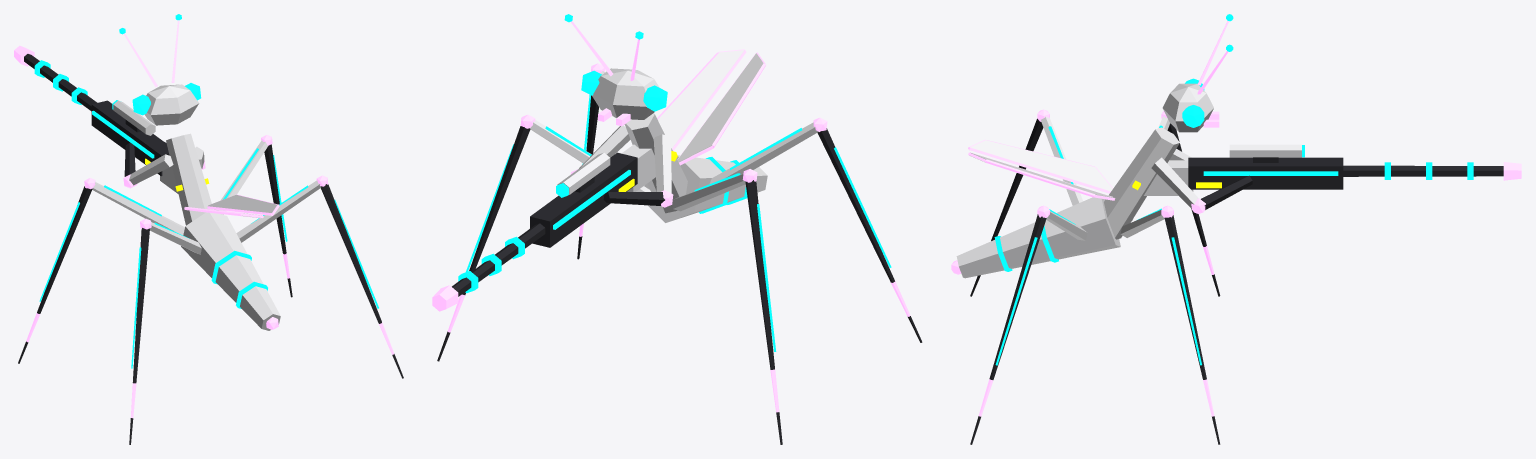
File: SniperMantis.fbx
3 renders of one model, left to right at view 1: azimuth 30°, elevation 25°; view 2: azimuth 150°, elevation 25°; view 3: azimuth 270°, elevation 25°, orthographic. The views are drawn at different scales.
Visible parts, largest first — view 1: Mantis_Abdomen, Mantis_Thorax, Mantis_RifleBody, Mantis_Head, Mantis_LegBackL_Lower, Mantis_LegBackR_Lower, Mantis_LegFrontR_Upper, Mantis_LegBackL_Upper, Mantis_LegFrontR_Lower, Mantis_WingL, Mantis_LegFrontL_Lower, Mantis_Barrel (+4 smaller); view 2: Mantis_RifleBody, Mantis_WingL, Mantis_Head, Mantis_Abdomen, Mantis_WingR, Mantis_Thorax, Mantis_LegFrontR_Lower, Mantis_LegFrontL_Lower, Mantis_LegBackR_Lower, Mantis_Barrel, Mantis_LegBackR_Upper, Mantis_LegFrontR_Upper (+10 smaller); view 3: Mantis_Abdomen, Mantis_RifleBody, Mantis_Thorax, Mantis_WingR, Mantis_Barrel, Mantis_Head, Mantis_LegBackL_Lower, Mantis_LegFrontL_Lower, Mantis_Scope, Mantis_LegBackR_Lower, Mantis_ArmL, Mantis_RifleStock (+3 smaller).
Part boxes in pixels (x1,y1,x2,y2): Mantis_Abdomen: [181, 212, 280, 330]; Mantis_Thorax: [166, 133, 212, 225]; Mantis_RifleBody: [91, 100, 169, 176]; Mantis_Head: [144, 84, 199, 125]; Mantis_LegBackL_Lower: [321, 184, 403, 378]; Mantis_LegBackR_Lower: [129, 228, 149, 444]; Mantis_LegFrontR_Upper: [92, 182, 184, 235]; Mantis_LegBackL_Upper: [236, 180, 320, 242]; Mantis_LegFrontR_Lower: [18, 186, 92, 363]; Mantis_WingL: [208, 195, 277, 212]; Mantis_LegFrontL_Lower: [264, 144, 292, 297]; Mantis_Barrel: [24, 54, 97, 111]; Mantis_RifleBody: [530, 152, 637, 247]; Mantis_WingL: [658, 50, 744, 148]; Mantis_Head: [592, 68, 659, 119]; Mantis_Abdomen: [644, 155, 767, 222]; Mantis_WingR: [677, 53, 763, 162]; Mantis_Thorax: [625, 113, 687, 213]; Mantis_LegFrontR_Lower: [745, 180, 782, 444]; Mantis_LegFrontL_Lower: [437, 126, 530, 361]; Mantis_LegBackR_Lower: [817, 128, 922, 342]; Mantis_Barrel: [452, 223, 545, 296]; Mantis_LegBackR_Upper: [709, 122, 818, 183]; Mantis_LegFrontR_Upper: [672, 174, 745, 211]; Mantis_Abdomen: [956, 197, 1120, 278]; Mantis_RifleBody: [1188, 157, 1343, 189]; Mantis_Thorax: [1104, 127, 1179, 239]; Mantis_WingR: [970, 140, 1112, 191]; Mantis_Barrel: [1343, 165, 1503, 176]; Mantis_Head: [1162, 83, 1213, 132]; Mantis_LegBackL_Lower: [970, 214, 1046, 444]; Mantis_LegFrontL_Lower: [1164, 215, 1220, 444]; Mantis_Scope: [1229, 144, 1301, 157]; Mantis_LegBackR_Lower: [970, 118, 1043, 296]; Mantis_ArmL: [1151, 157, 1198, 208]; Mantis_RifleStock: [1144, 160, 1193, 195].
Size of the model in its own units: 0.6838 by 0.7288 by 1.1.
